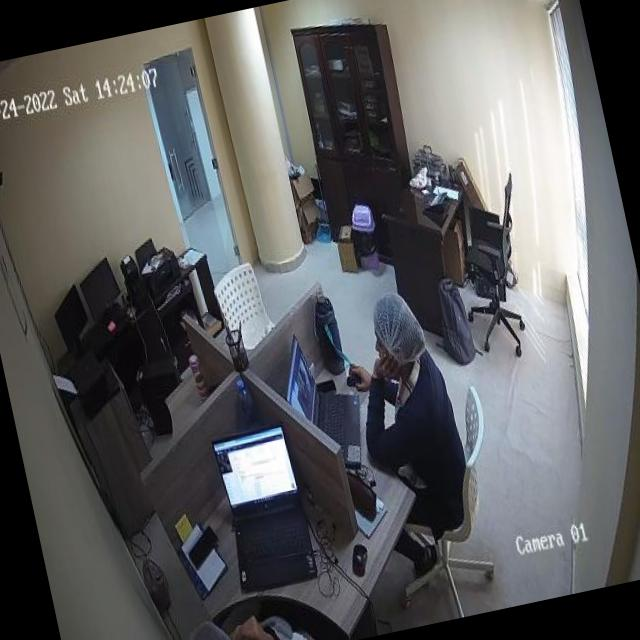hairnet: (370, 292, 419, 358), (177, 617, 244, 640)
